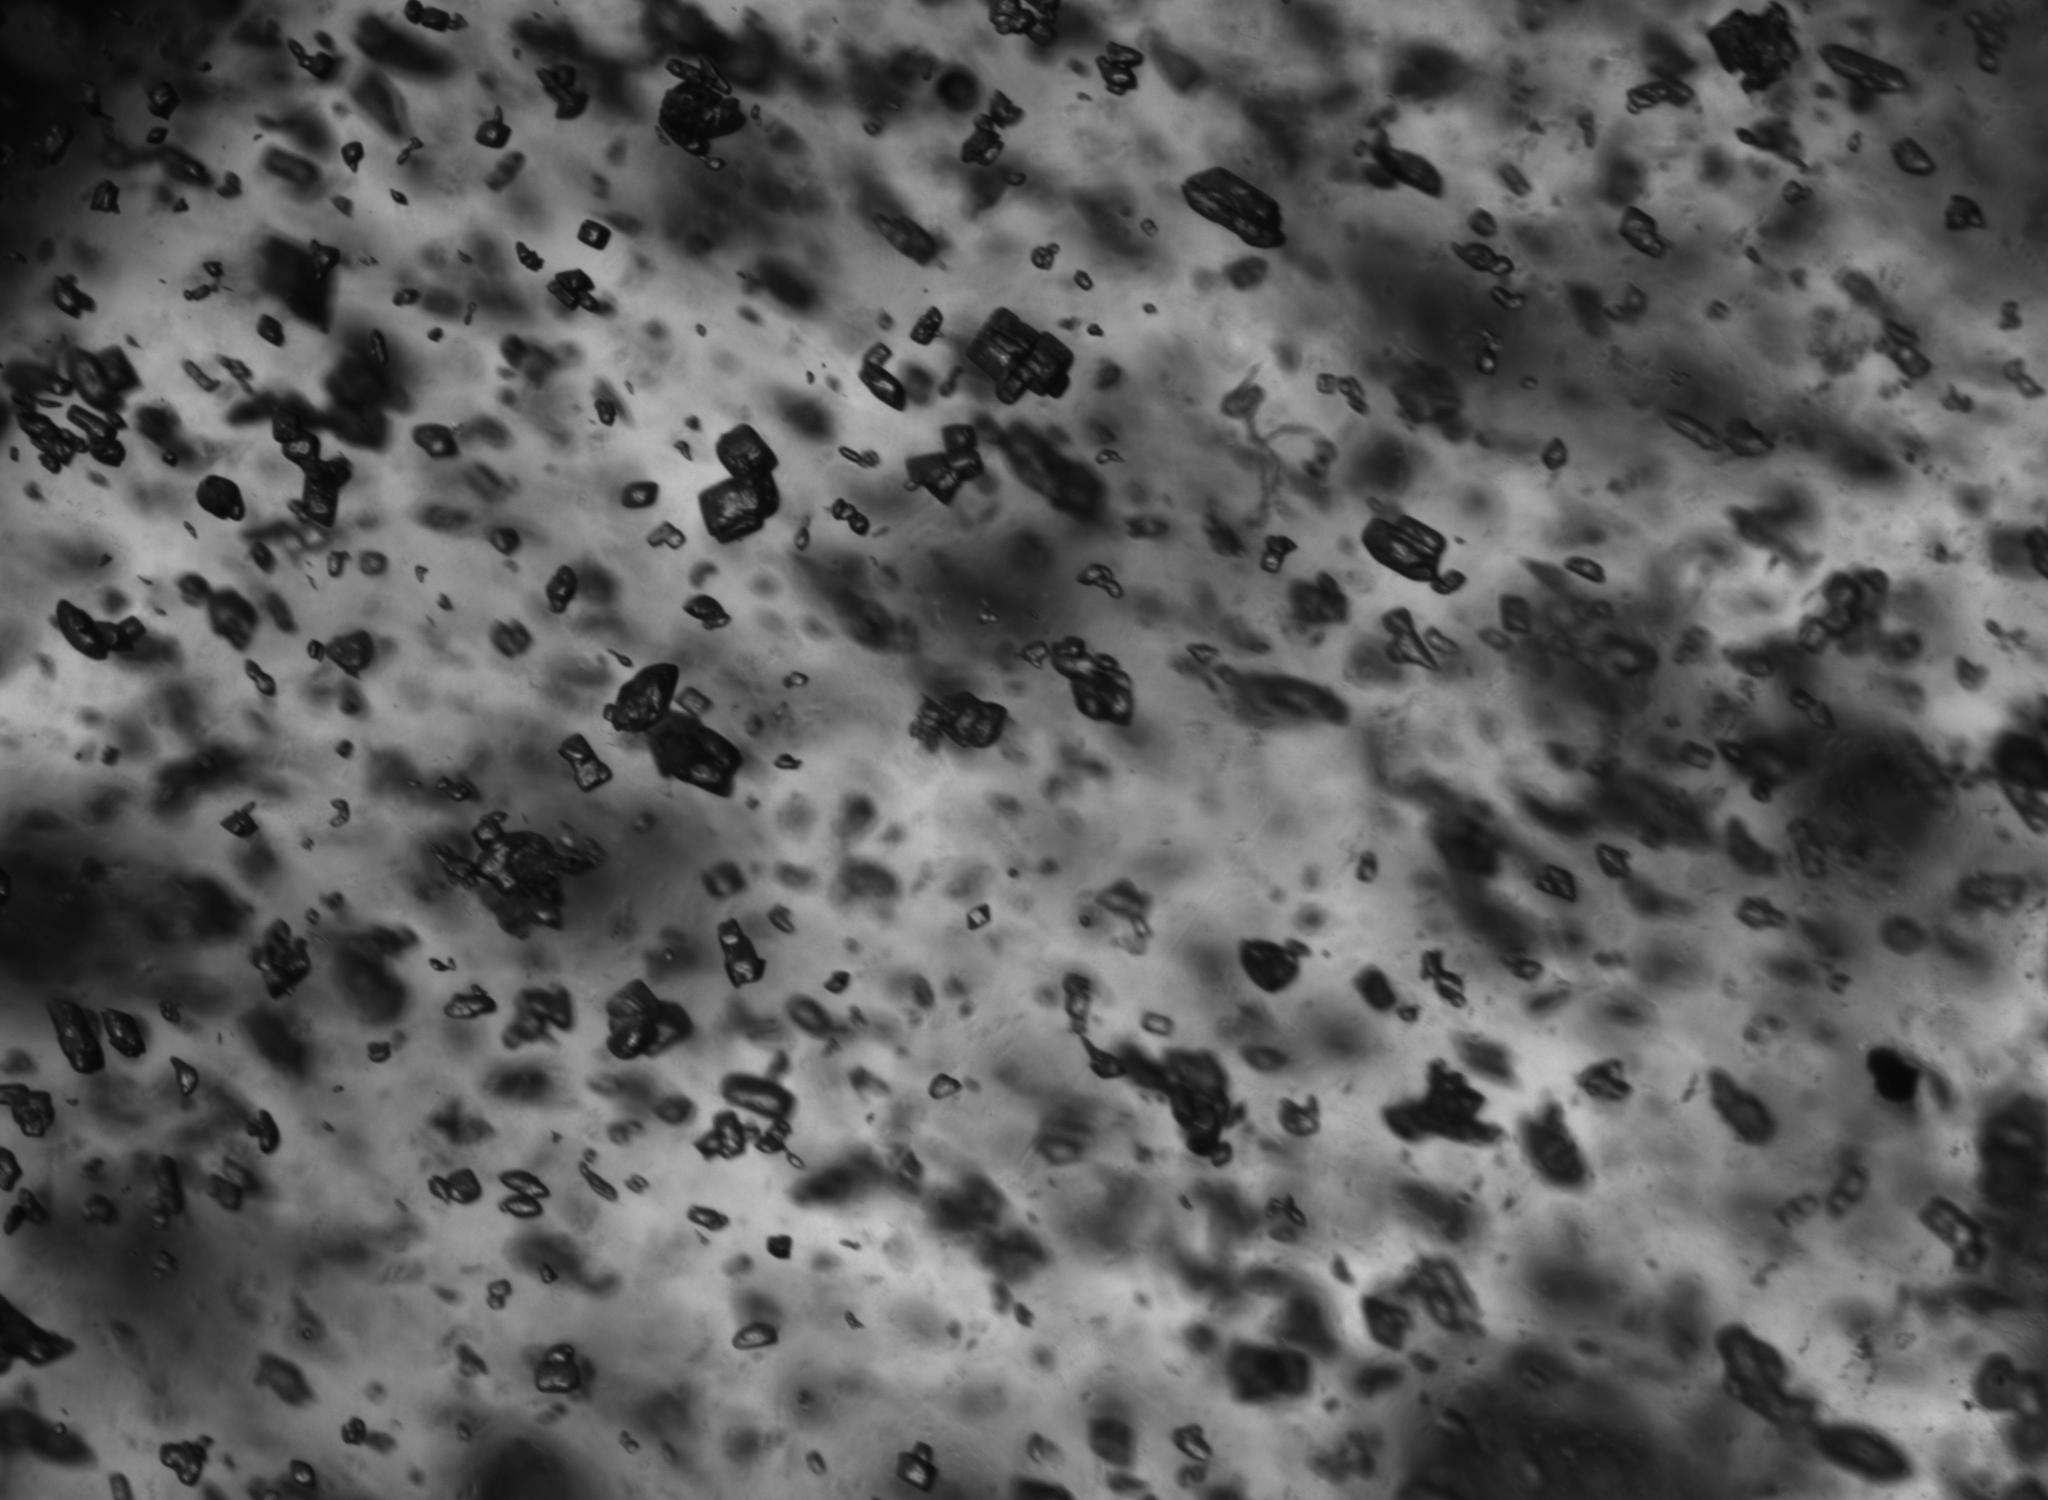crystal: (1062, 973, 1237, 1160), (432, 811, 596, 935), (1716, 1323, 1865, 1452), (1976, 1093, 2048, 1306), (1018, 636, 1134, 725), (967, 307, 1073, 404), (657, 57, 747, 162), (700, 425, 779, 542), (324, 328, 402, 447), (1383, 1061, 1498, 1142), (272, 420, 350, 528), (1181, 167, 1285, 248), (695, 1074, 793, 1158), (1708, 0, 1798, 91), (647, 709, 743, 795), (1849, 282, 1932, 380), (607, 980, 693, 1059), (906, 425, 984, 504), (52, 600, 151, 660), (1361, 514, 1447, 582), (1356, 130, 1444, 197), (910, 690, 1008, 749), (1665, 407, 1776, 457), (604, 663, 679, 733), (60, 345, 137, 414), (1382, 606, 1461, 671), (1921, 1196, 1989, 1269), (960, 91, 1022, 167), (1957, 0, 2019, 75), (1821, 43, 1910, 94), (251, 921, 308, 997), (48, 999, 105, 1074), (19, 407, 84, 472), (1239, 938, 1309, 993), (67, 406, 126, 466), (987, 0, 1062, 46), (717, 918, 765, 988), (558, 733, 612, 792), (860, 344, 906, 410), (547, 269, 612, 313), (0, 1083, 54, 1136), (148, 1156, 186, 1228), (1420, 950, 1468, 1007), (499, 1169, 552, 1220), (533, 1343, 584, 1393), (695, 1110, 747, 1160), (1096, 41, 1143, 95), (264, 148, 321, 192), (1619, 207, 1668, 258), (286, 33, 340, 80), (1627, 76, 1693, 113), (1170, 1424, 1213, 1479), (196, 474, 243, 520), (159, 1441, 207, 1487), (102, 1008, 146, 1058), (895, 1443, 938, 1494), (1452, 242, 1512, 277), (1315, 372, 1367, 412), (579, 1148, 619, 1201), (402, 0, 464, 33), (444, 983, 498, 1020), (49, 277, 95, 318), (428, 1169, 482, 1204), (2002, 358, 2048, 398), (684, 593, 731, 630), (1076, 563, 1124, 600), (1892, 137, 1935, 175), (1533, 864, 1576, 902), (490, 620, 533, 659), (701, 862, 746, 899), (1736, 897, 1787, 929), (412, 423, 458, 458), (1258, 534, 1297, 574), (474, 108, 512, 150), (423, 773, 480, 800), (731, 1319, 779, 1350), (547, 565, 579, 612), (245, 1110, 280, 1153), (830, 498, 870, 534), (219, 802, 259, 838), (1946, 194, 1984, 231), (910, 305, 943, 345), (181, 359, 221, 393), (146, 81, 180, 119), (170, 1056, 199, 1101), (243, 659, 277, 697), (1595, 843, 1630, 878), (674, 687, 712, 719), (1563, 557, 1604, 584), (647, 522, 687, 549), (577, 220, 612, 250), (89, 180, 119, 213), (622, 480, 658, 507), (288, 1460, 316, 1494), (1490, 282, 1525, 309), (256, 315, 285, 347), (1541, 437, 1568, 471), (1468, 208, 1498, 237), (490, 527, 520, 555), (929, 1074, 962, 1099), (1140, 1012, 1173, 1037), (1433, 569, 1466, 595), (1030, 242, 1059, 270), (768, 905, 797, 934), (515, 242, 544, 270), (593, 396, 620, 426), (1476, 340, 1499, 374), (487, 1279, 512, 1309), (358, 550, 388, 576), (340, 140, 364, 172), (965, 903, 992, 931), (765, 1234, 793, 1260), (366, 1039, 394, 1064), (396, 137, 423, 162), (340, 1417, 366, 1444), (824, 970, 851, 994), (329, 799, 351, 827), (1094, 445, 1124, 464), (701, 1207, 728, 1228), (328, 550, 348, 577), (784, 670, 811, 689), (773, 752, 801, 770), (393, 288, 418, 307), (537, 1265, 558, 1285), (331, 196, 353, 215), (626, 1174, 650, 1191), (1073, 270, 1094, 290), (146, 126, 169, 143), (428, 958, 455, 972), (307, 639, 324, 660), (676, 441, 693, 461), (388, 189, 409, 205), (437, 592, 453, 611), (428, 326, 444, 342), (1086, 323, 1104, 337), (1296, 1109, 1309, 1126)
